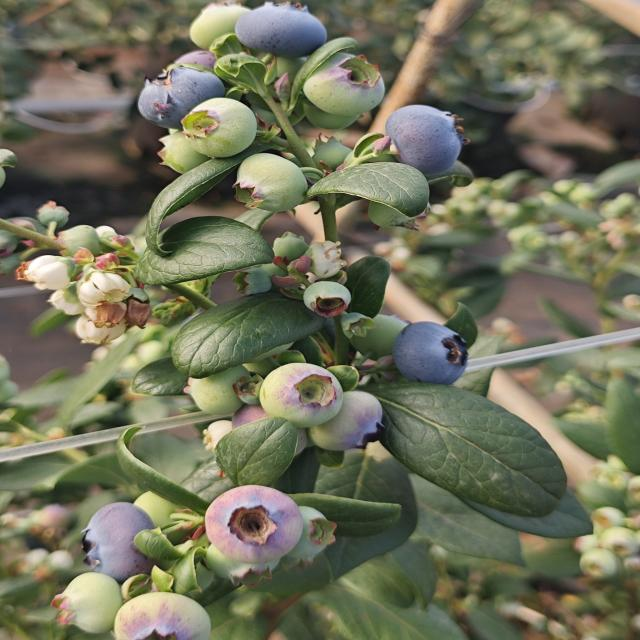ripe: (128, 50, 236, 133), (74, 500, 172, 581), (381, 96, 472, 178), (387, 312, 479, 390), (226, 1, 346, 56)
